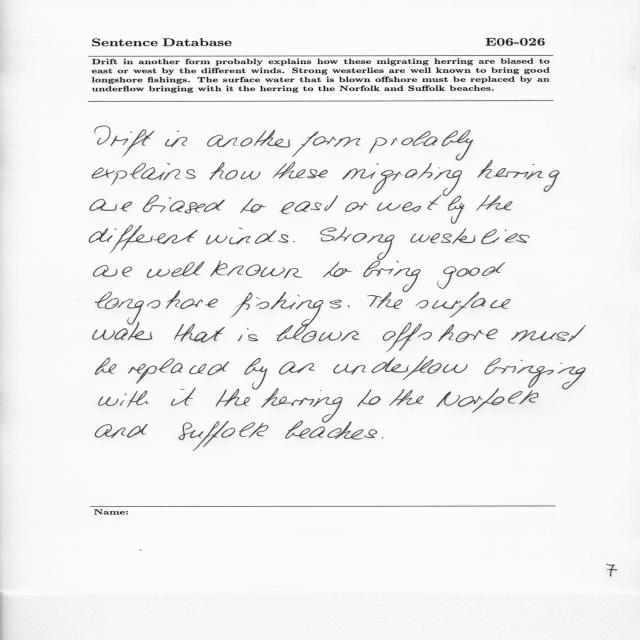word: (95, 290, 218, 325), (342, 163, 462, 196), (369, 130, 493, 161), (383, 323, 498, 353), (484, 358, 586, 390), (333, 357, 468, 381), (89, 225, 198, 253), (230, 292, 342, 318), (262, 388, 343, 423), (179, 421, 269, 451), (128, 358, 229, 384), (477, 161, 560, 192), (437, 388, 539, 413), (415, 292, 511, 318), (320, 227, 395, 260), (92, 163, 196, 185), (277, 319, 359, 343), (410, 228, 530, 244), (437, 262, 505, 289), (95, 126, 154, 157), (363, 261, 421, 292), (292, 131, 360, 157), (285, 421, 377, 440), (210, 261, 302, 278), (207, 130, 290, 148), (143, 195, 225, 213), (206, 228, 288, 245), (511, 325, 586, 342), (280, 195, 339, 214), (377, 195, 441, 212), (93, 322, 152, 340), (147, 261, 205, 278), (174, 324, 225, 343), (272, 162, 328, 179), (210, 162, 261, 180), (99, 391, 149, 408), (95, 424, 148, 438), (245, 358, 267, 390), (215, 389, 250, 407), (367, 292, 403, 309), (389, 389, 424, 406), (477, 195, 513, 211), (90, 199, 132, 211), (279, 361, 315, 375), (448, 196, 465, 224), (94, 265, 132, 277), (323, 262, 353, 277), (171, 388, 196, 406), (357, 389, 382, 407), (241, 198, 267, 213), (96, 357, 117, 375), (165, 131, 187, 147), (238, 328, 258, 341), (345, 202, 368, 212), (347, 306, 350, 308), (293, 241, 295, 242), (382, 438, 384, 439)
